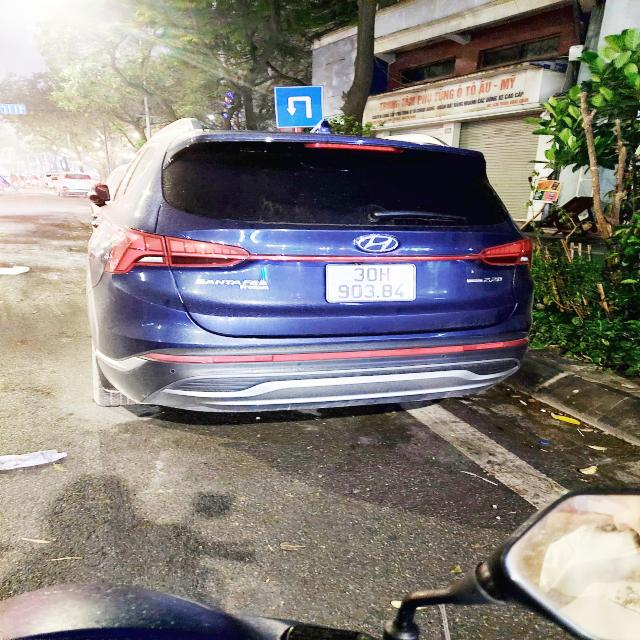license_plate: (323, 262, 422, 304)
